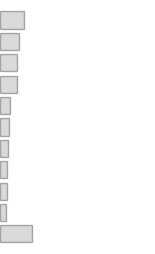

What the dashboard file says about the page in this screenshot:
{"tool":"powerbi","page":{"name":"Portada","canvas":[1280,720],"ordinal":0},"visuals":[{"type":"textbox","box":[0,0,640.7,720.9],"z":0},{"type":"actionButton","box":[1183.7,0,96.5,67.4],"z":1000}]}

Visuals, with their boxes on the page's 1280x720 design canvas (x1, y1, x2, y2). These are canvas units, not pixel positions in the 155x254 screenshot, which may show the page scaled, cropped or inside an application window:
textbox: <bbox>0, 0, 641, 721</bbox>
actionButton: <bbox>1184, 0, 1280, 67</bbox>
